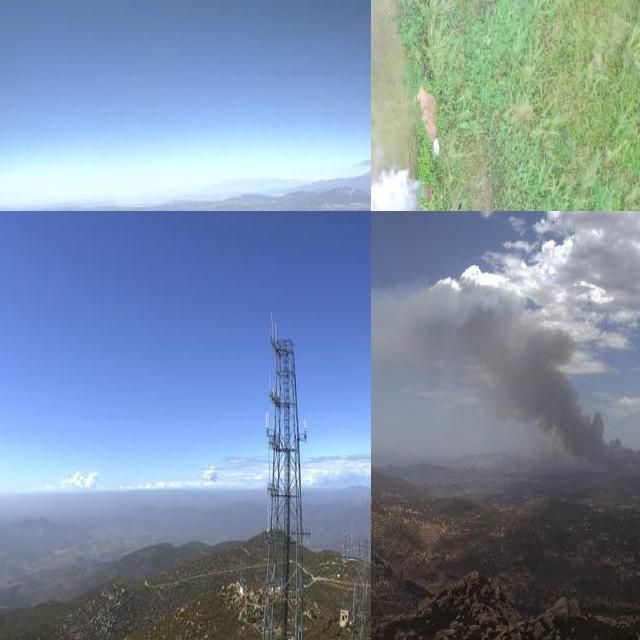smoke: (371, 282, 640, 480), (371, 169, 420, 211)
